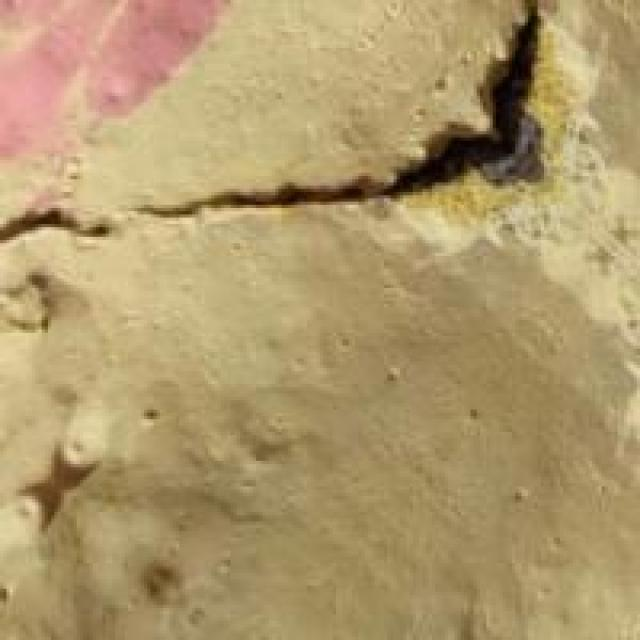Crack: (3, 0, 576, 266)
